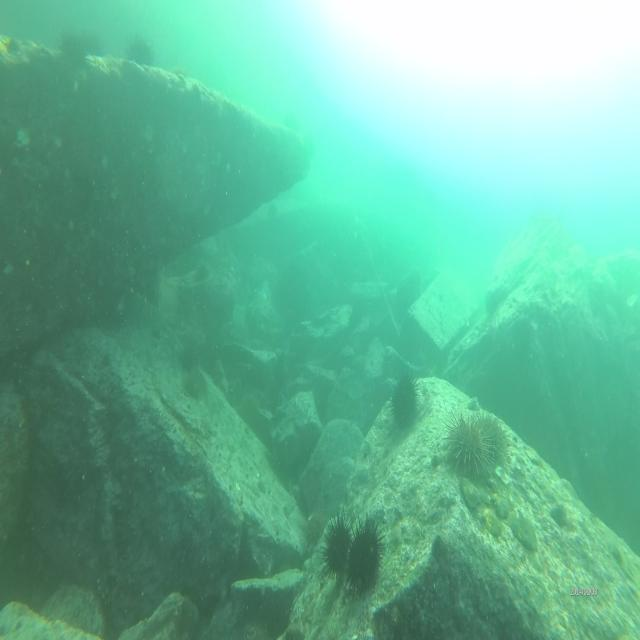echinus: (340, 515, 388, 596), (441, 410, 487, 474), (389, 374, 423, 438), (320, 507, 354, 569), (470, 416, 508, 470), (125, 32, 154, 82), (57, 29, 86, 76), (178, 362, 208, 400), (79, 37, 104, 70)
